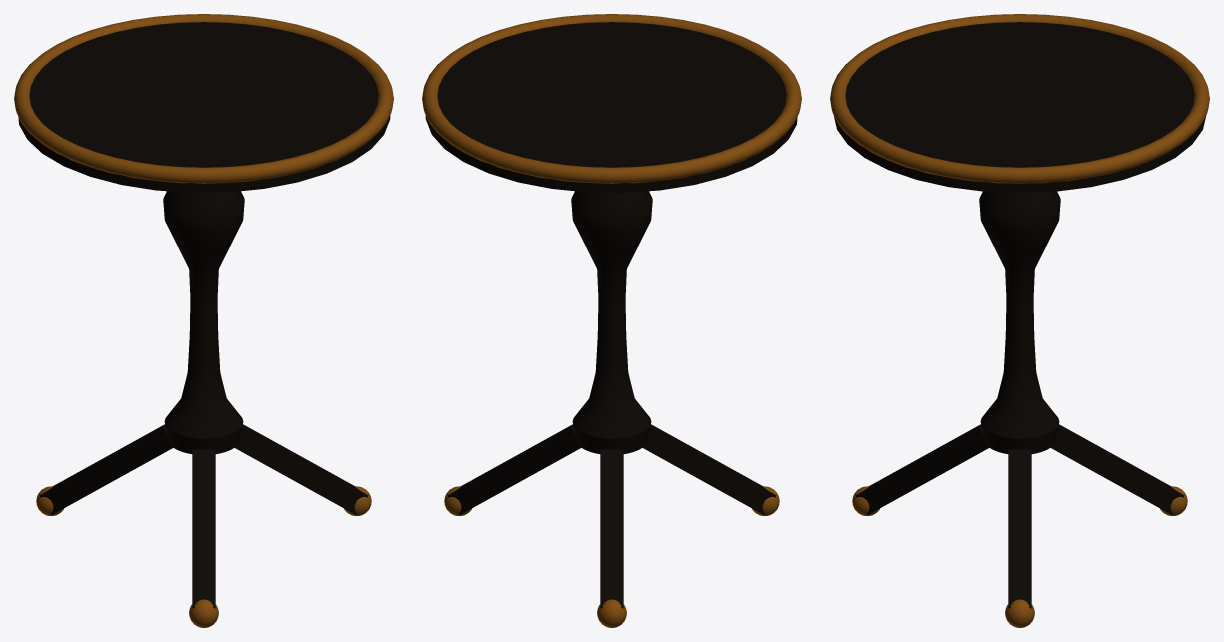
Rendered from 11_round_side_table.fbx.
3 renders of one model, left to right at view 1: azimuth 30°, elevation 25°; view 2: azimuth 150°, elevation 25°; view 3: azimuth 270°, elevation 25°, orthographic.
Parts seen in each view (by area): view 1: TableTop, TableColumn, TableRim, Leg_2, Leg_0, Leg_1, Caster_2; view 2: TableTop, TableColumn, TableRim, Leg_1, Leg_0, Leg_2, Caster_1; view 3: TableTop, TableColumn, TableRim, Leg_0, Leg_1, Leg_2, Caster_0.
Part boxes in pixels (left/top/right/bottom): TableTop: left=18, top=22, right=390, bottom=192; TableColumn: left=163, top=191, right=244, bottom=453; TableRim: left=14, top=14, right=393, bottom=183; Leg_2: left=192, top=449, right=215, bottom=608; Leg_0: left=234, top=424, right=368, bottom=514; Leg_1: left=39, top=424, right=173, bottom=514; Caster_2: left=189, top=599, right=218, bottom=627; TableTop: left=425, top=22, right=797, bottom=192; TableColumn: left=571, top=191, right=652, bottom=453; TableRim: left=422, top=14, right=801, bottom=183; Leg_1: left=600, top=449, right=623, bottom=608; Leg_0: left=447, top=424, right=581, bottom=514; Leg_2: left=642, top=424, right=776, bottom=514; Caster_1: left=597, top=599, right=626, bottom=627; TableTop: left=833, top=22, right=1206, bottom=192; TableColumn: left=979, top=191, right=1060, bottom=453; TableRim: left=830, top=14, right=1209, bottom=183; Leg_0: left=1008, top=449, right=1031, bottom=608; Leg_1: left=1050, top=424, right=1184, bottom=514; Leg_2: left=855, top=424, right=989, bottom=514; Caster_0: left=1005, top=599, right=1034, bottom=627.
Size of the model in its own units: 0.562 by 0.749 by 0.56.
2 materials, 2 textured.
